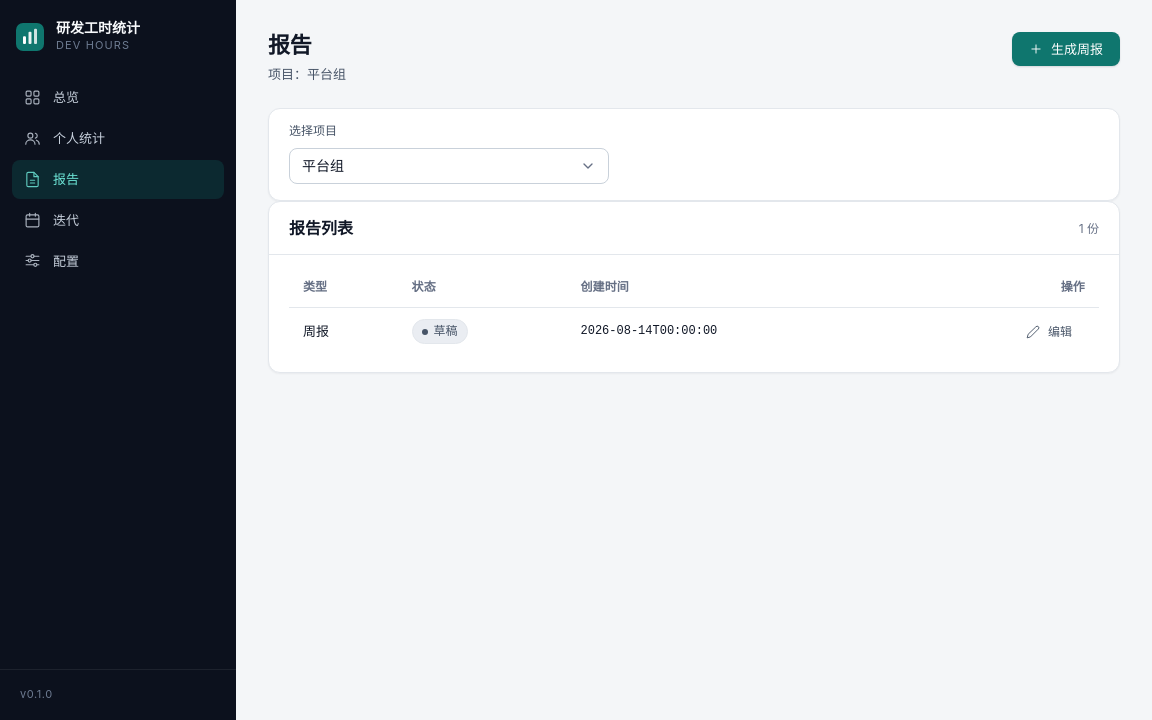
Test case: ReportListPage › 切换项目选择器后按新的 project_id 重新请求报告列表
The width and height of the screenshot is (1152, 720).
Expected: the text "2026-08-14T00:00:00" is shown, [566, 307, 898, 356]
Select "数据组" in the dropdown named "select-project-report": (449, 166) [289, 148, 609, 184]
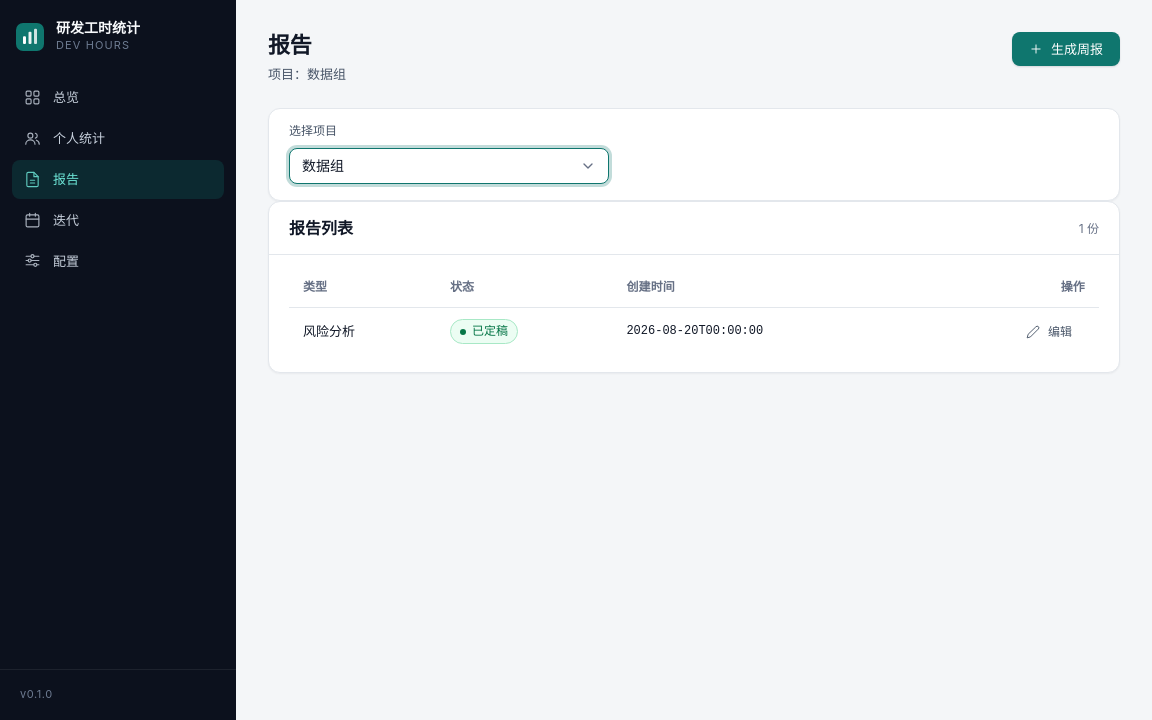
Expected: the text "2026-08-20T00:00:00" is shown, [612, 307, 915, 356]
Expected: the text "2026-08-14T00:00:00" is gone
